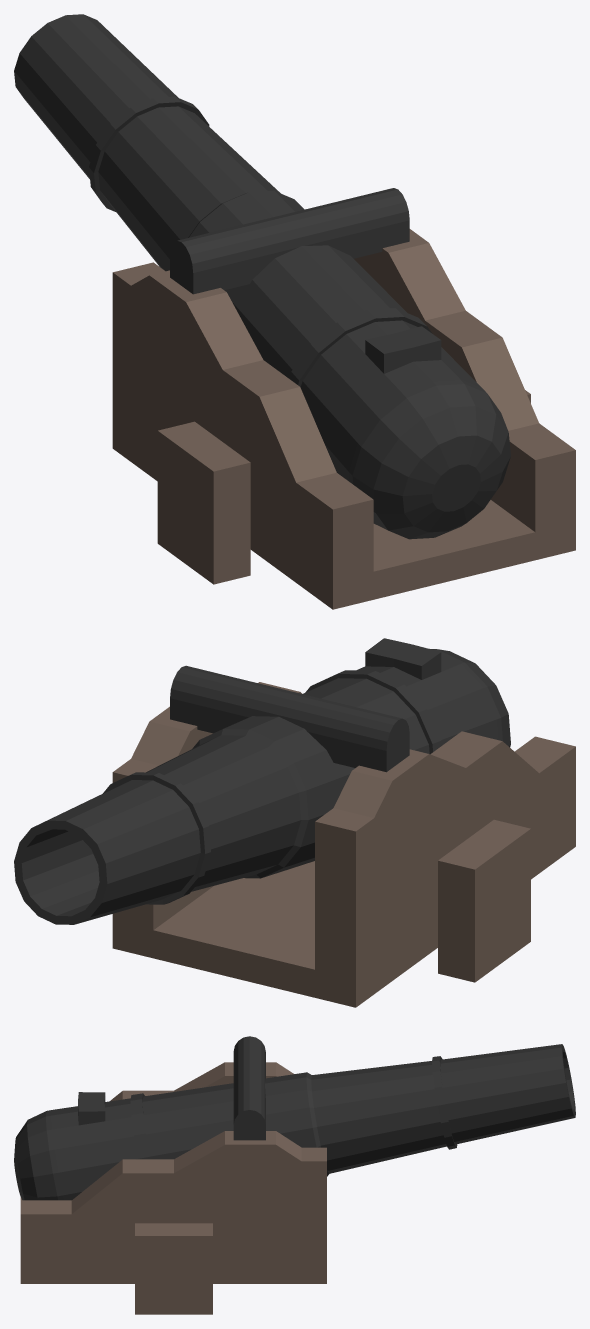
Rendered from Ship Gun.fbx.
The picture shows the model from 3 angles, top to bottom: view 1: azimuth 30°, elevation 25°; view 2: azimuth 150°, elevation 25°; view 3: azimuth 270°, elevation 25°; orthographic projection. The views are drawn at different scales.
Parts seen in each view (by area): view 1: Цилиндр.010; view 2: Цилиндр.010; view 3: Цилиндр.010.
Boxes of the visible parts, x1,y1,x2,y2 form: Цилиндр.010: [14, 14, 575, 609]; Цилиндр.010: [14, 638, 575, 1007]; Цилиндр.010: [14, 1036, 575, 1314].
Size of the model in its own units: 28.77 by 26.53 by 63.37.
